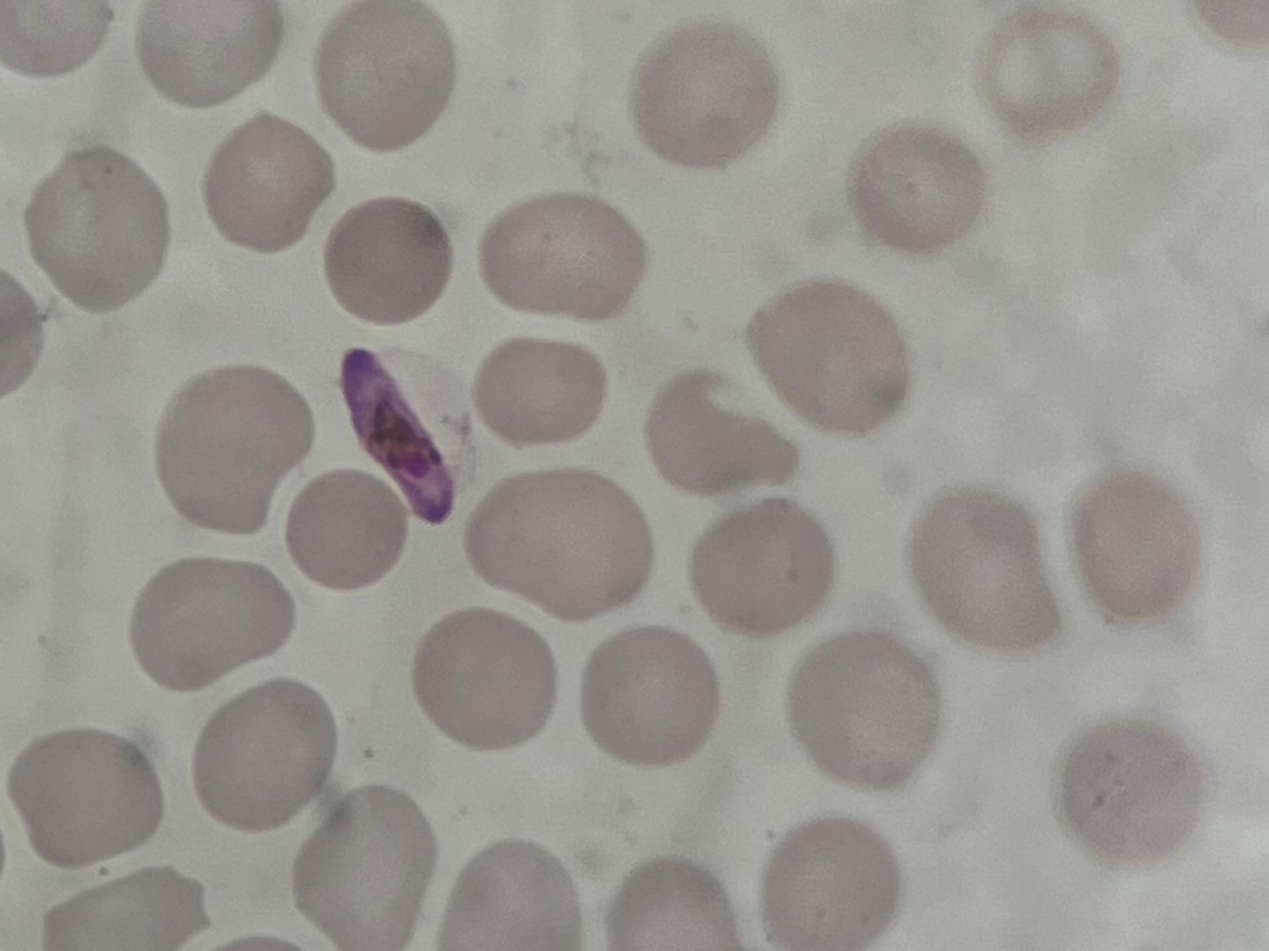Infected: (340, 349, 492, 525)
Uninfected: (468, 468, 652, 619), (155, 365, 314, 538), (25, 142, 170, 315), (785, 627, 940, 787), (910, 486, 1063, 647), (750, 278, 906, 432), (294, 783, 437, 951), (192, 674, 338, 833), (131, 557, 297, 692), (630, 19, 775, 169), (479, 192, 646, 321), (314, 0, 455, 152), (12, 729, 167, 866), (1062, 711, 1198, 866), (410, 610, 556, 744), (687, 503, 835, 635), (646, 367, 798, 495), (580, 625, 717, 767), (758, 817, 902, 951), (1070, 473, 1203, 616), (849, 118, 984, 251), (203, 118, 331, 253), (980, 12, 1123, 132), (324, 195, 453, 328), (444, 838, 588, 951), (135, 0, 282, 108), (468, 336, 606, 447), (288, 470, 409, 590), (41, 866, 211, 951), (606, 859, 740, 951)
